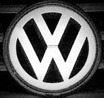Volkswagen: (5, 3, 100, 96)
